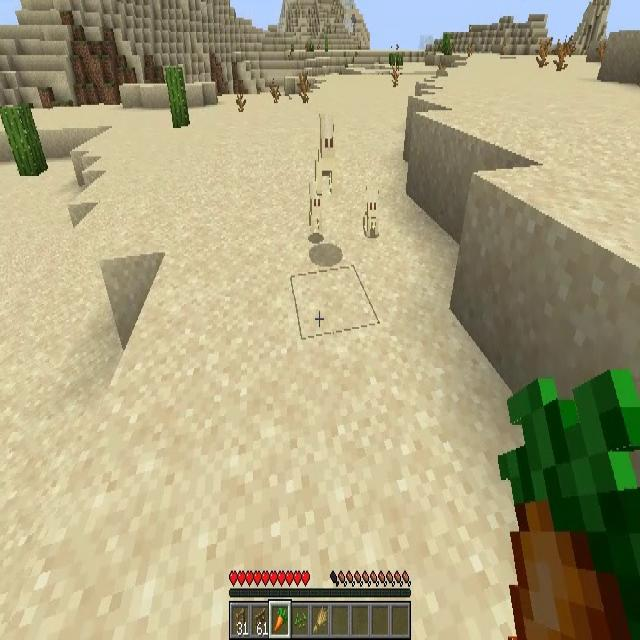rabbit: (313, 116, 336, 194), (307, 177, 324, 236), (364, 190, 380, 237)
